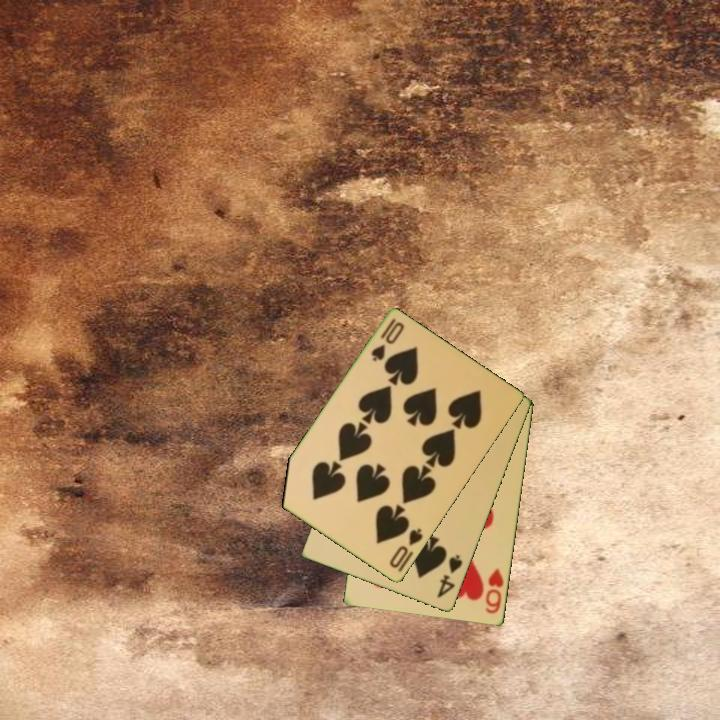10s: (368, 315, 407, 365), (386, 525, 426, 571)
4s: (434, 551, 466, 601)
6h: (482, 565, 507, 617)
